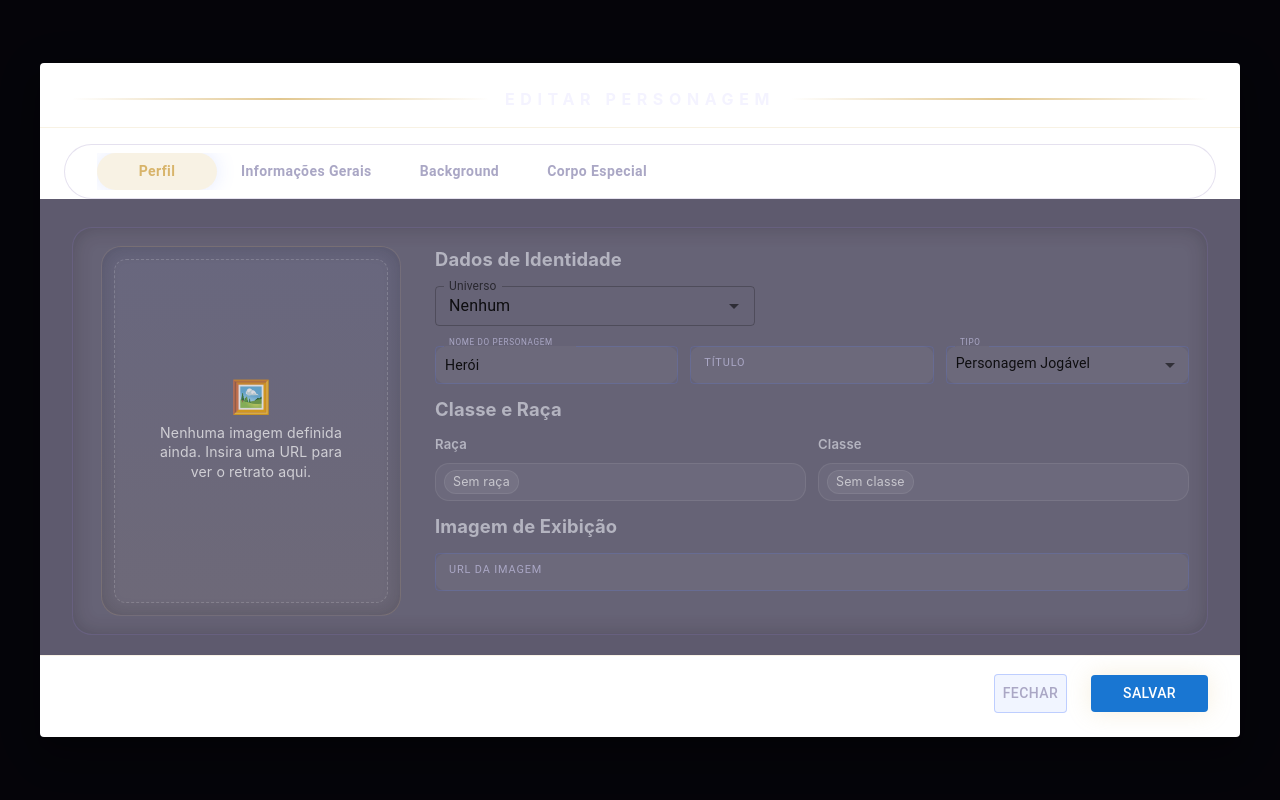
InfoModal / PerfilTab › renderiza corpo especial com bonus estruturado como objeto
The width and height of the screenshot is (1280, 800).
Click the tab "Corpo Especial". click: (597,172)
box: left=523, top=153, right=671, bottom=190
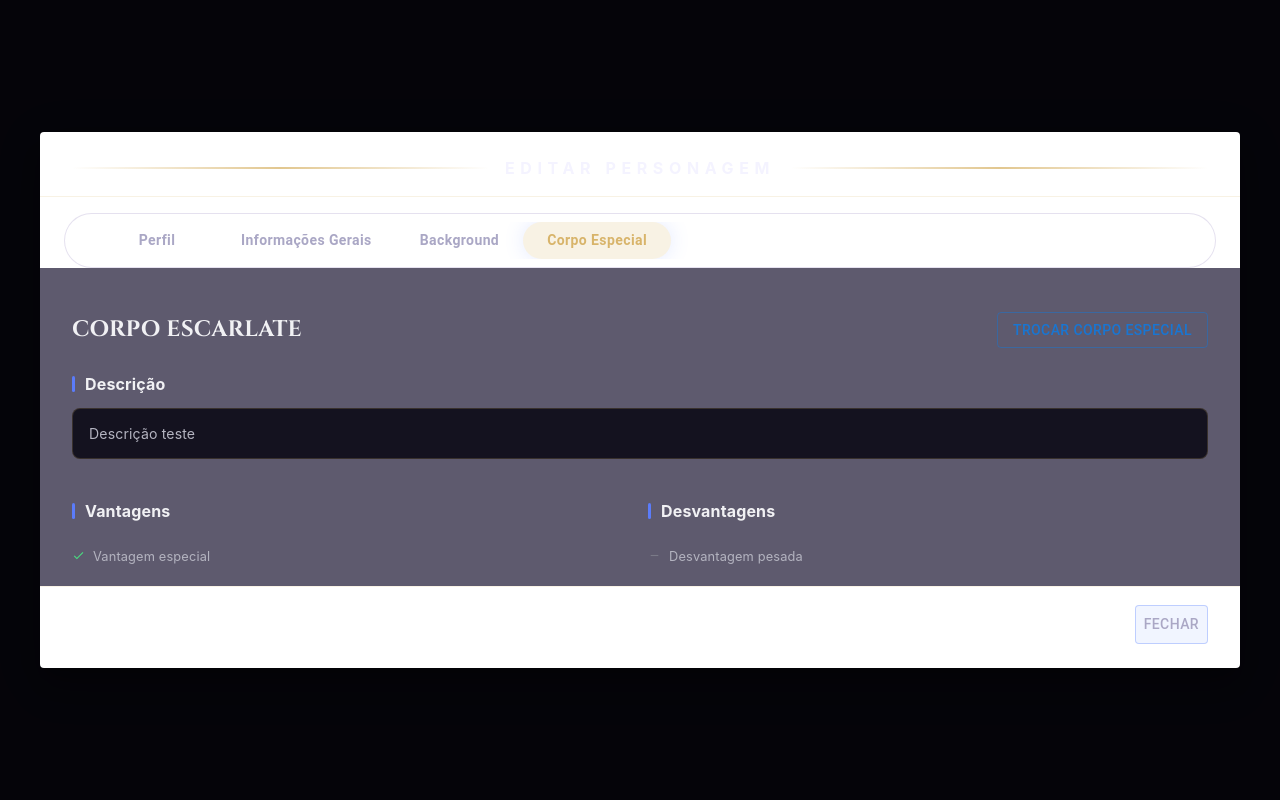
Result: the heading "Vantagens" is shown at left=85, top=501, right=170, bottom=521
Result: the list item "Vantagem especial" is shown at left=72, top=549, right=210, bottom=564
Result: the heading "Desvantagens" is shown at left=661, top=501, right=775, bottom=521
